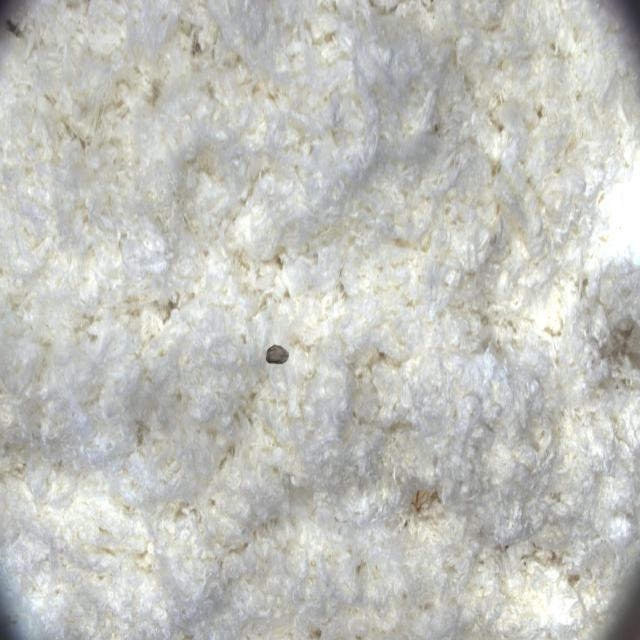dust: (255, 312, 308, 386)
